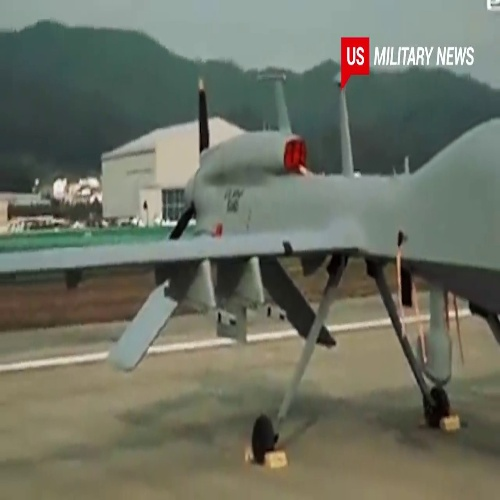uav124: (3, 76, 500, 462)
